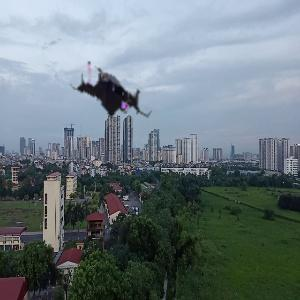drone: (62, 47, 160, 145)
